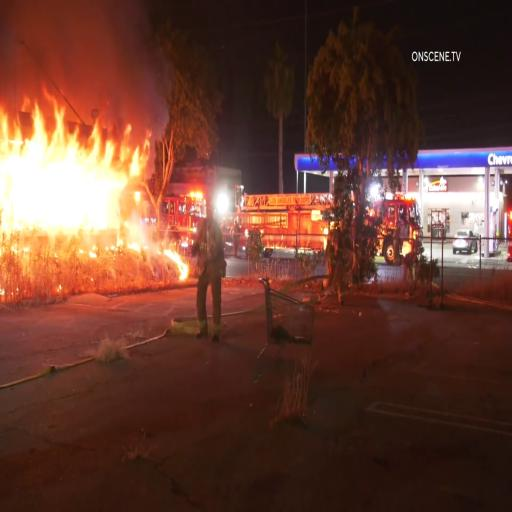fire: (0, 121, 145, 250)
smoke: (0, 8, 146, 122)
